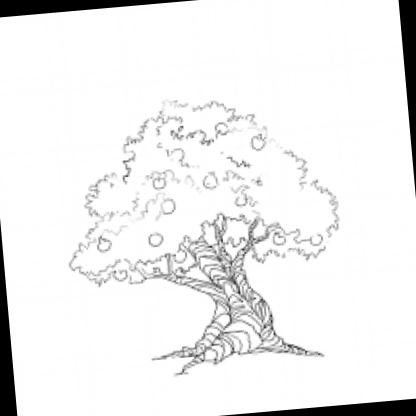apple: (156, 196, 180, 216), (93, 236, 118, 254), (147, 229, 166, 248), (250, 134, 268, 154), (152, 173, 169, 192), (203, 172, 219, 190), (172, 248, 188, 264)
branch_cut: (141, 210, 275, 292)
crown_dizzy: (50, 81, 344, 288)
root_only: (148, 327, 328, 382)
trunk_bark: (198, 294, 284, 338)
